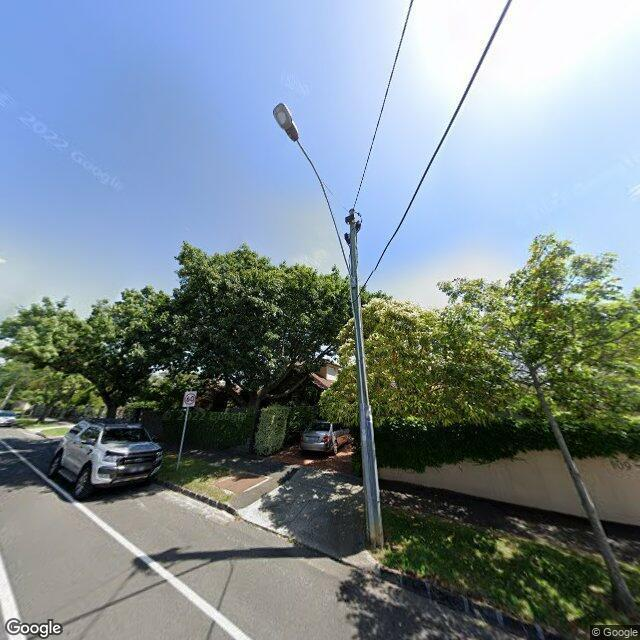streetlight: (272, 102, 356, 288)
timber-pole: (349, 208, 384, 548)
